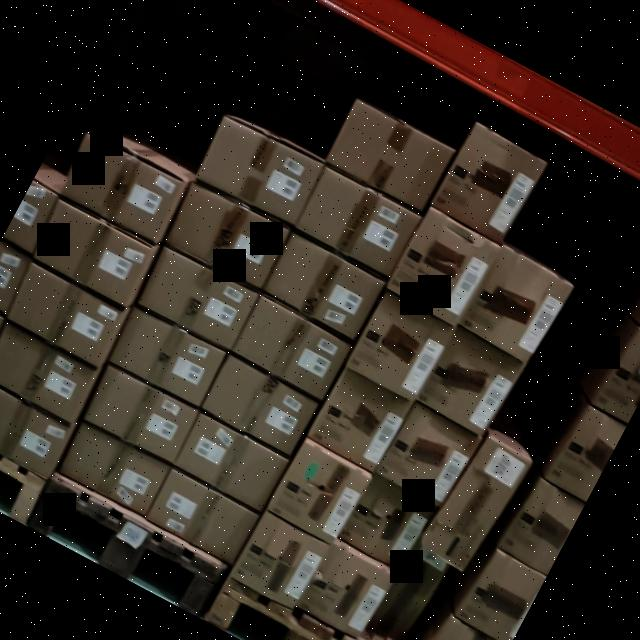box: (420, 439, 530, 571), (196, 115, 324, 225), (325, 101, 452, 211), (294, 165, 421, 274), (432, 125, 546, 243), (460, 247, 574, 364), (59, 136, 182, 244), (163, 184, 288, 289), (198, 354, 320, 458), (262, 235, 383, 339), (388, 210, 498, 324), (136, 249, 259, 350), (344, 291, 454, 403), (233, 298, 351, 400), (32, 203, 149, 303), (6, 266, 120, 366), (172, 416, 287, 515), (109, 307, 225, 405), (265, 439, 370, 546), (419, 329, 524, 435), (85, 364, 197, 462), (145, 469, 259, 564), (308, 368, 412, 470), (376, 404, 480, 505), (58, 423, 171, 514), (0, 320, 98, 422), (231, 512, 329, 608), (338, 475, 435, 571), (299, 545, 393, 638), (0, 389, 69, 478)
